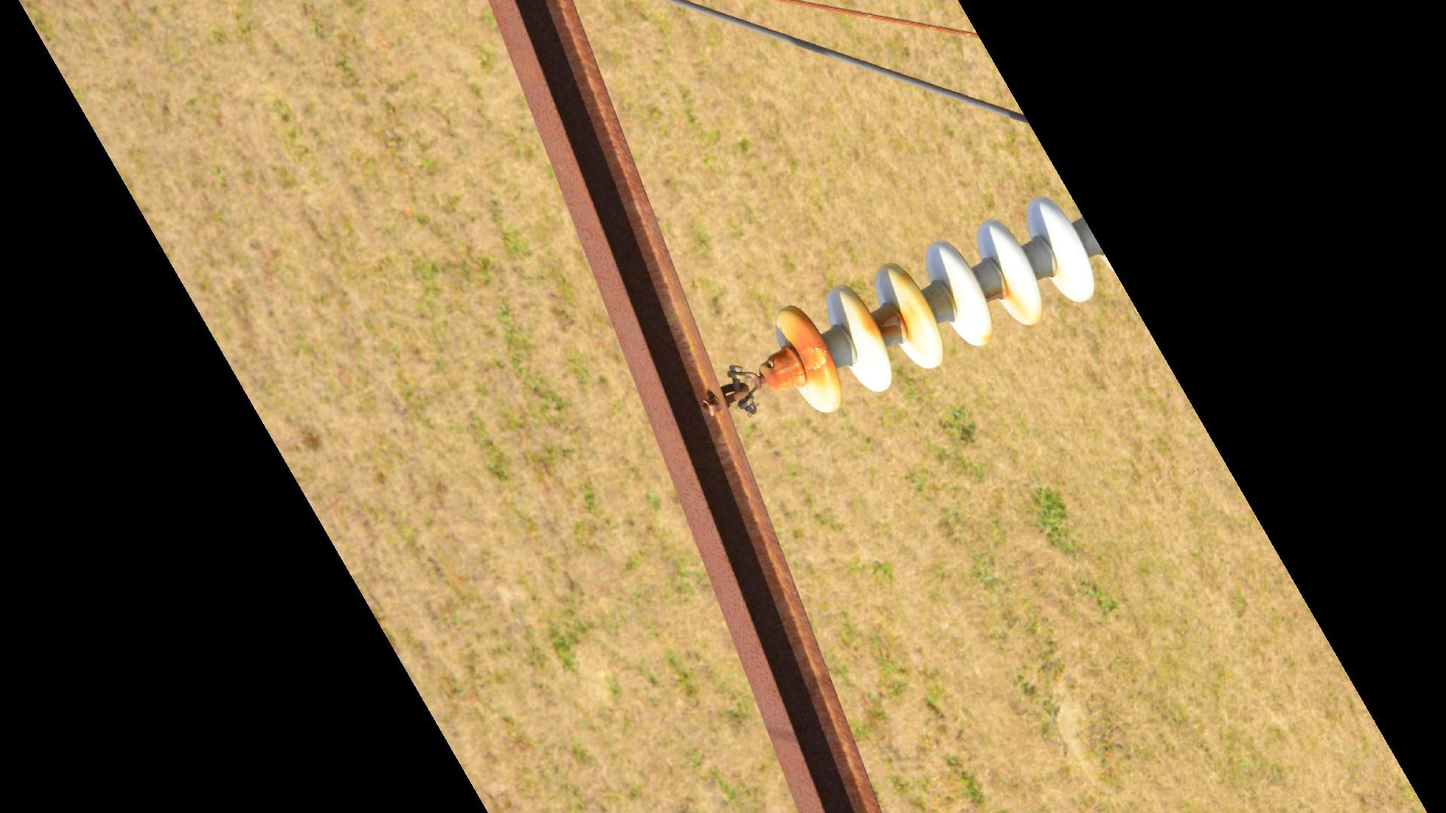insulator: (770, 193, 1100, 419)
insulator_flashover: (797, 344, 831, 373)
